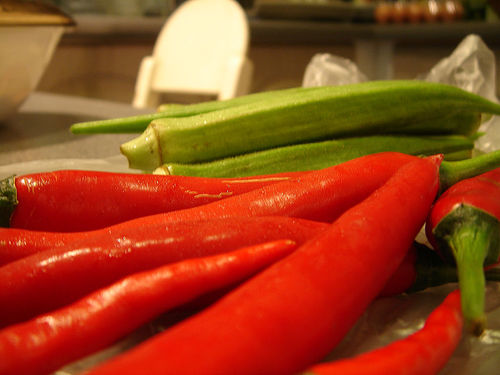okra: (118, 76, 498, 172)
